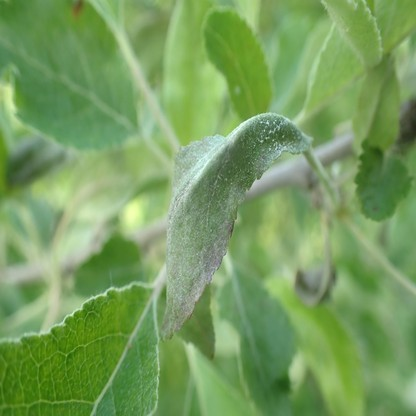powdery_mildew: (166, 113, 303, 343)
